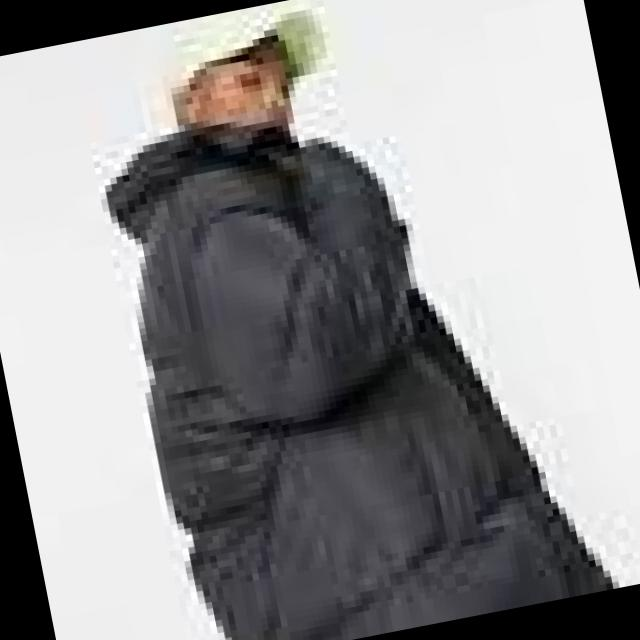Jacket: (0, 60, 519, 640)
